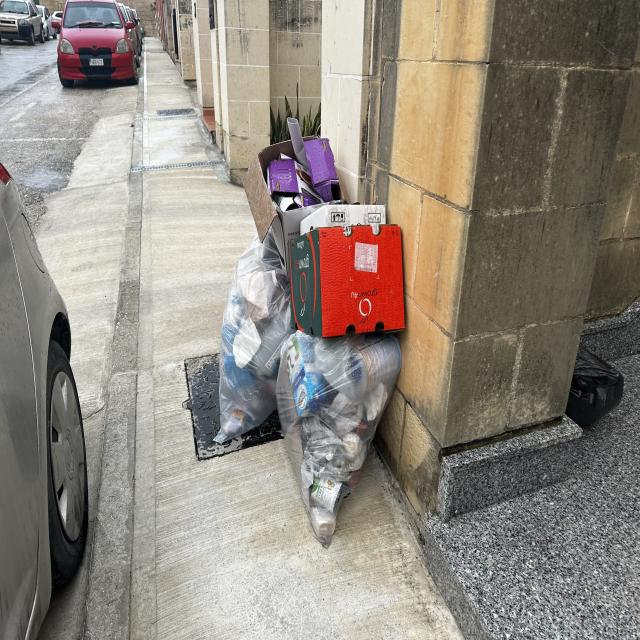Others Waste: (241, 118, 406, 338)
Recyclable Material -Grey Bags-: (213, 226, 402, 549)
